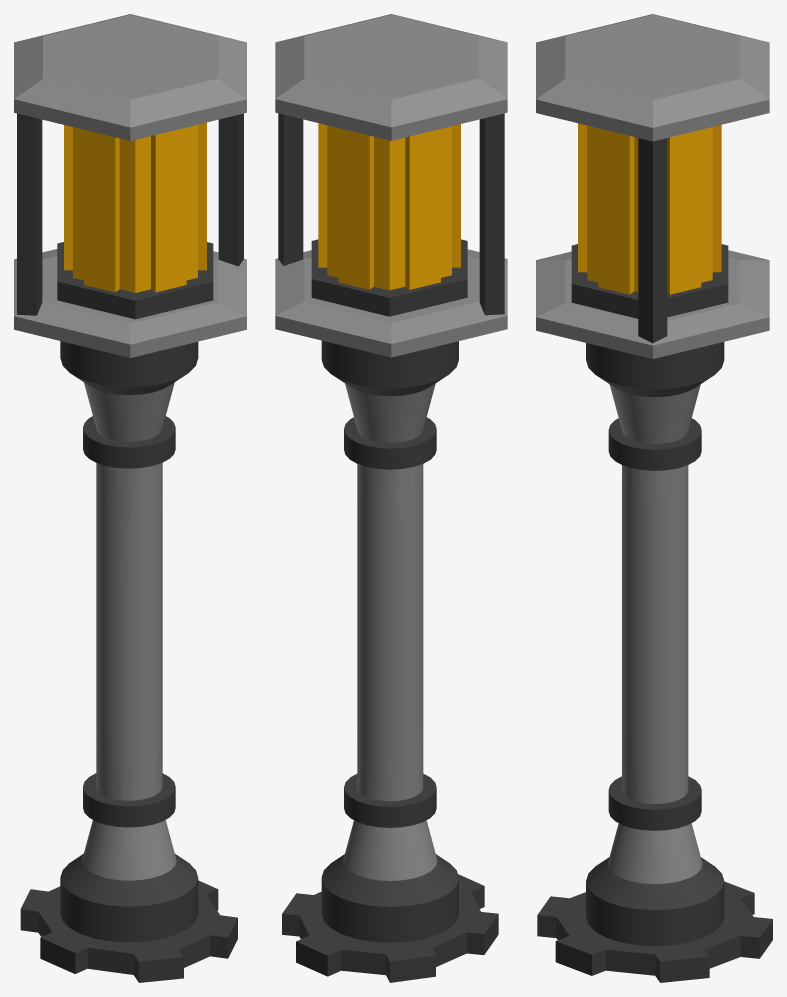
The model's file is ligher.fbx.
3 views of the same model, side by side, from view 1: azimuth 30°, elevation 25°; view 2: azimuth 150°, elevation 25°; view 3: azimuth 270°, elevation 25° (orthographic).
Parts seen in each view (by area): view 1: mergedBlocks; view 2: mergedBlocks; view 3: mergedBlocks.
Part boxes in pixels (<box>): mergedBlocks: <box>14,14,246,982</box>; mergedBlocks: <box>275,14,507,982</box>; mergedBlocks: <box>536,14,772,982</box>.
Size of the model in its own units: 11.55 by 41.6 by 10.14.
